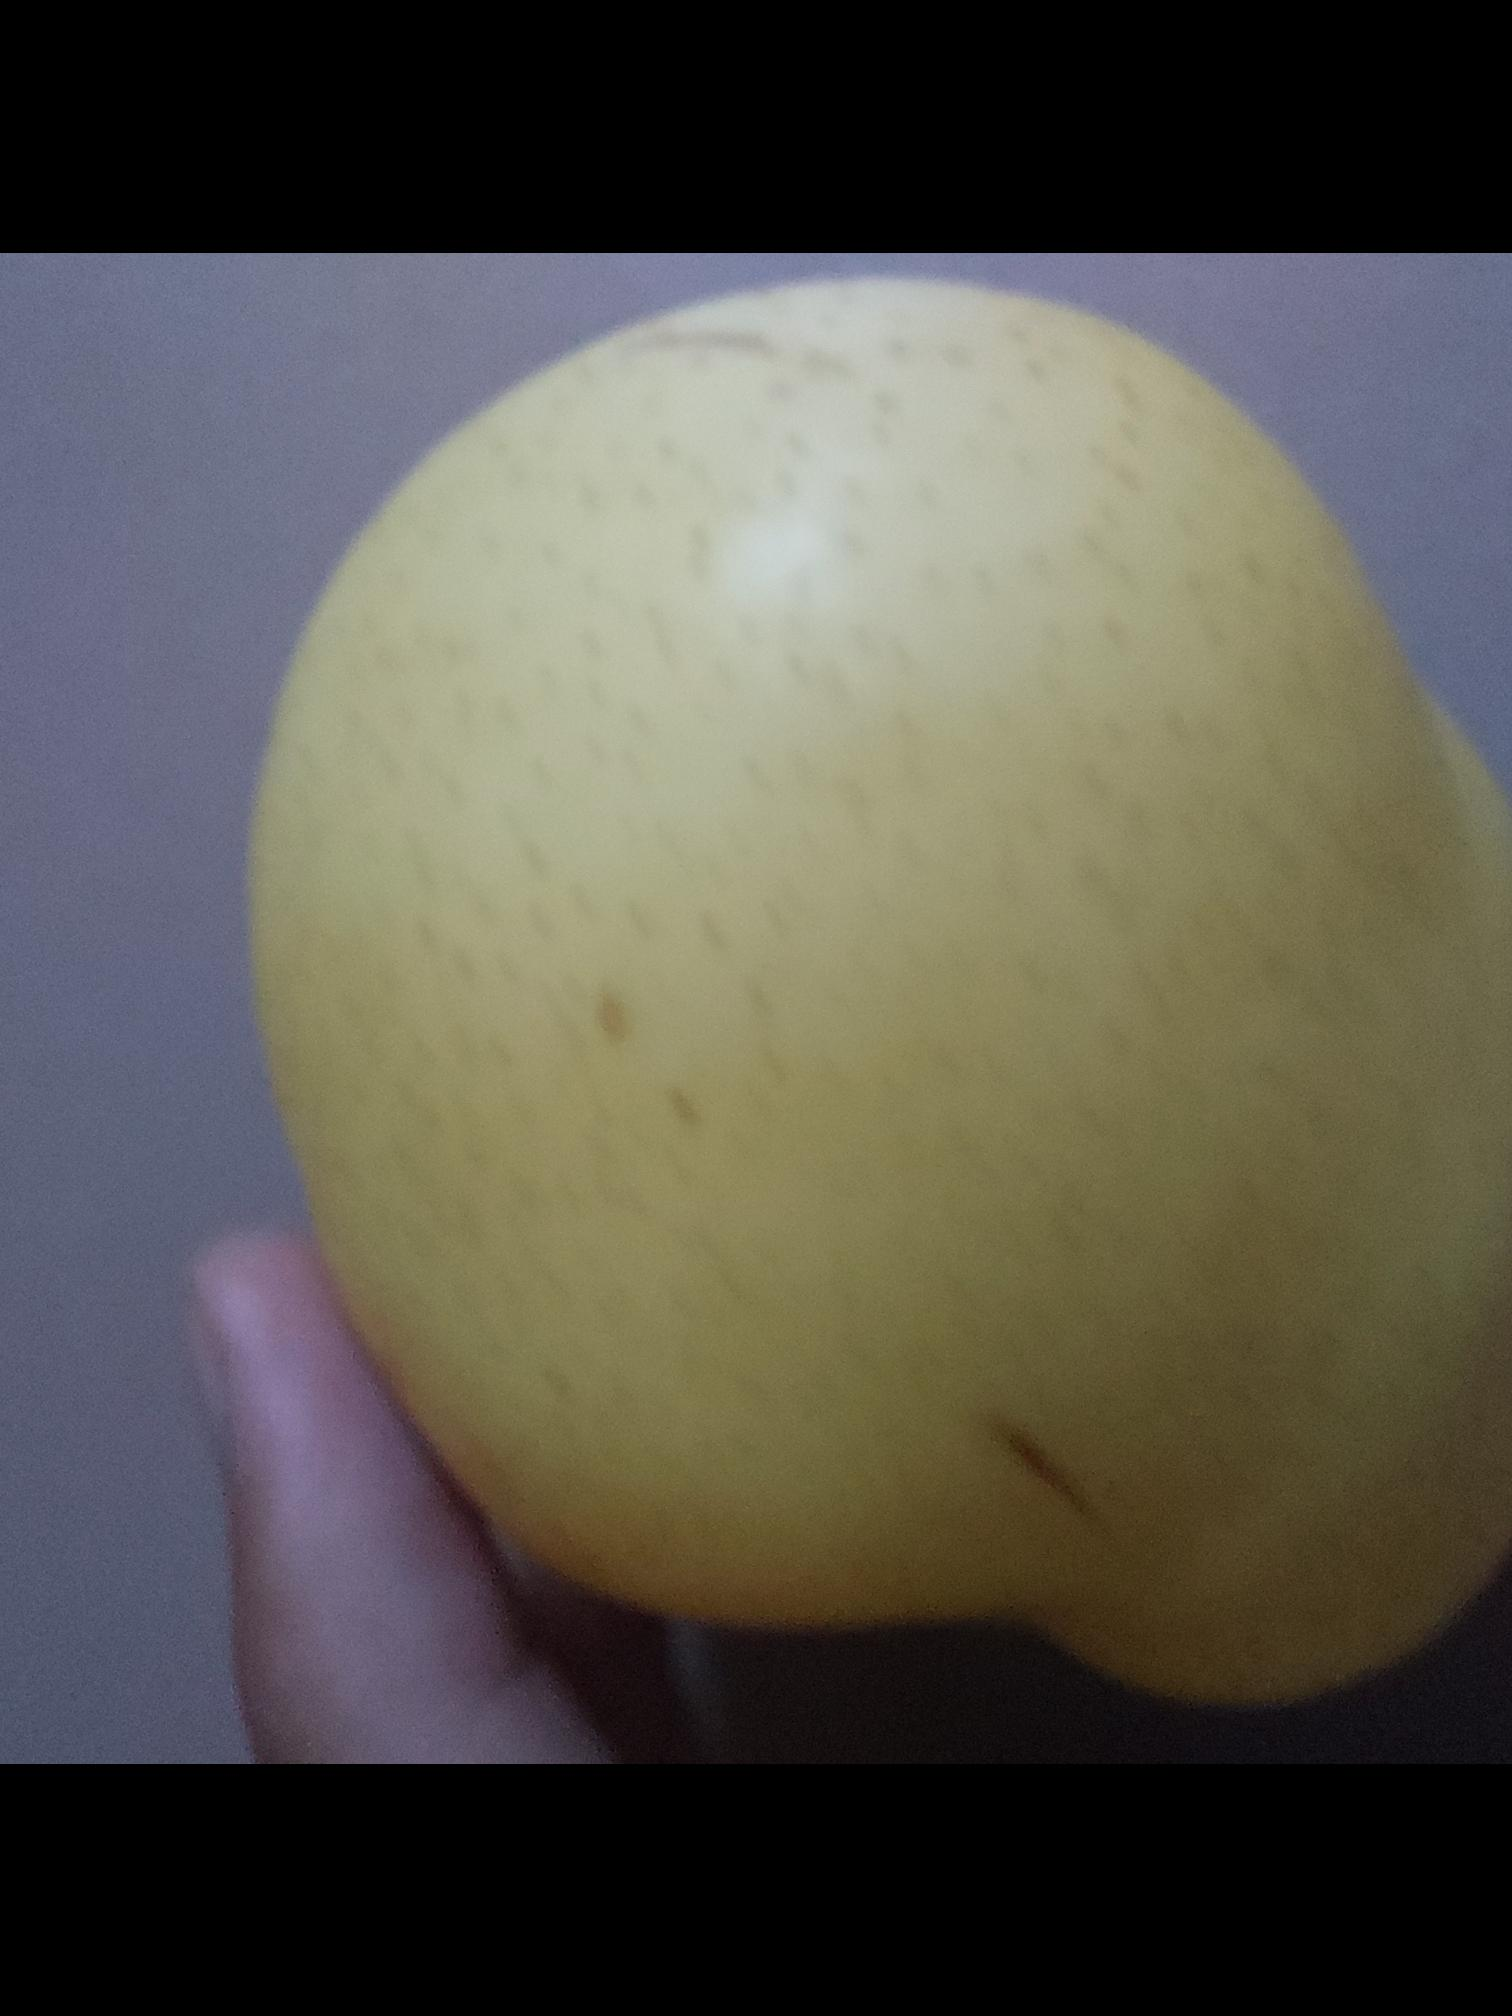Good Pear: (238, 264, 1512, 1713)
